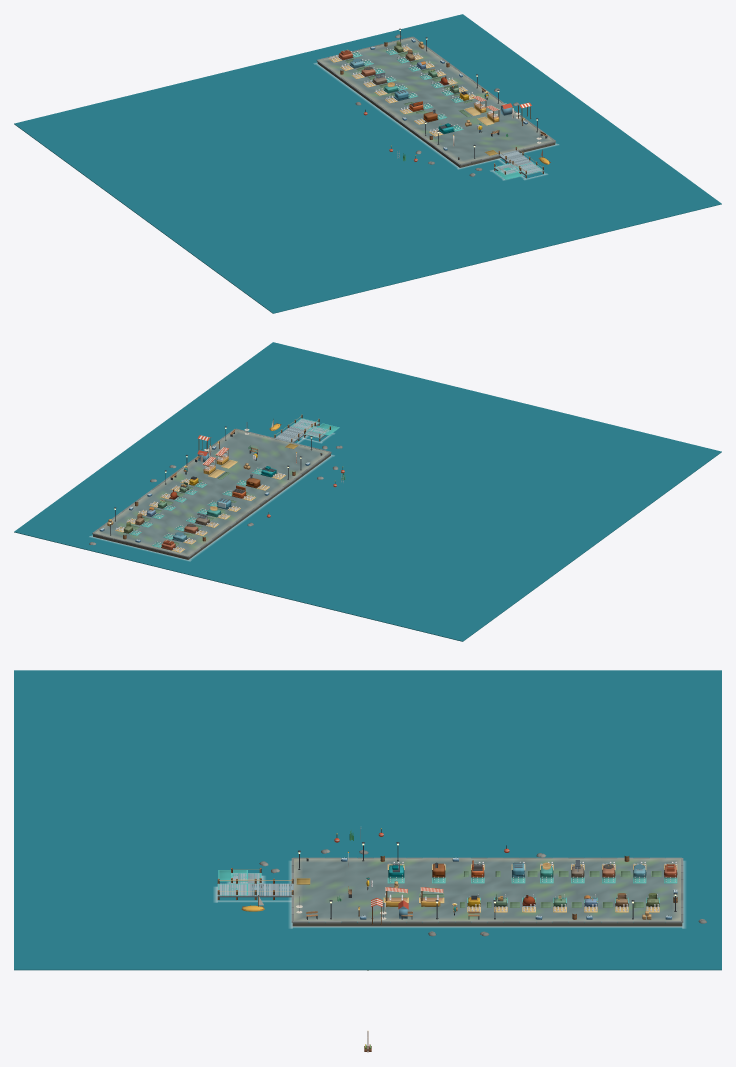
The model's file is tideglass_bay_blockout.glb.
3 renders of one model, top to bottom at view 1: azimuth 30°, elevation 25°; view 2: azimuth 150°, elevation 25°; view 3: azimuth 270°, elevation 25°, orthographic. The views are drawn at different scales.
Parts seen in each view (by area): view 1: Water, Ground_tg_land, Ground_tg_pier, Foam; view 2: Water, Ground_tg_land, Foam, Ground_tg_pier; view 3: Water, Ground_tg_land, Foam, Ground_tg_pier.
Part boxes in pixels (box(x1,y1,x2,y2)): Water: box(14, 14, 721, 313); Ground_tg_land: box(316, 36, 555, 167); Ground_tg_pier: box(498, 147, 544, 177); Foam: box(314, 63, 558, 180); Water: box(14, 342, 721, 641); Ground_tg_land: box(92, 428, 331, 559); Foam: box(89, 433, 334, 561); Ground_tg_pier: box(274, 414, 319, 442); Water: box(14, 670, 721, 970); Ground_tg_land: box(291, 857, 683, 926); Foam: box(214, 861, 685, 928); Ground_tg_pier: box(217, 878, 293, 899).
Size of the model in its own units: 80 by 22.55 by 80.
